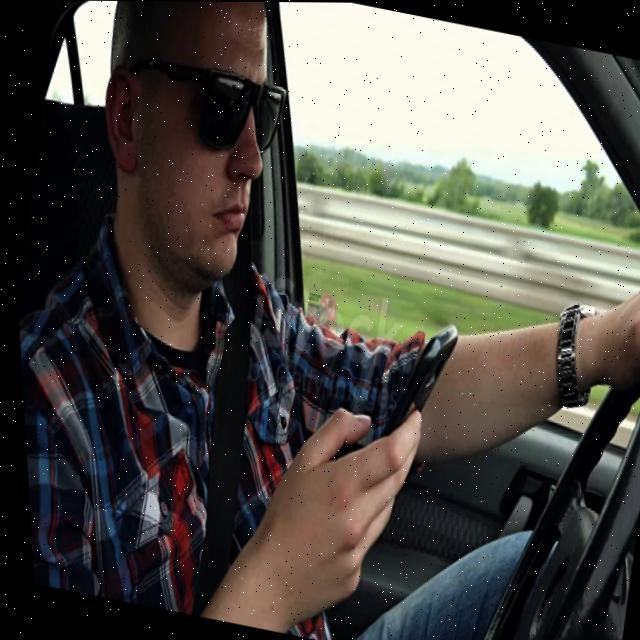PhoneCall: (366, 314, 462, 450)
